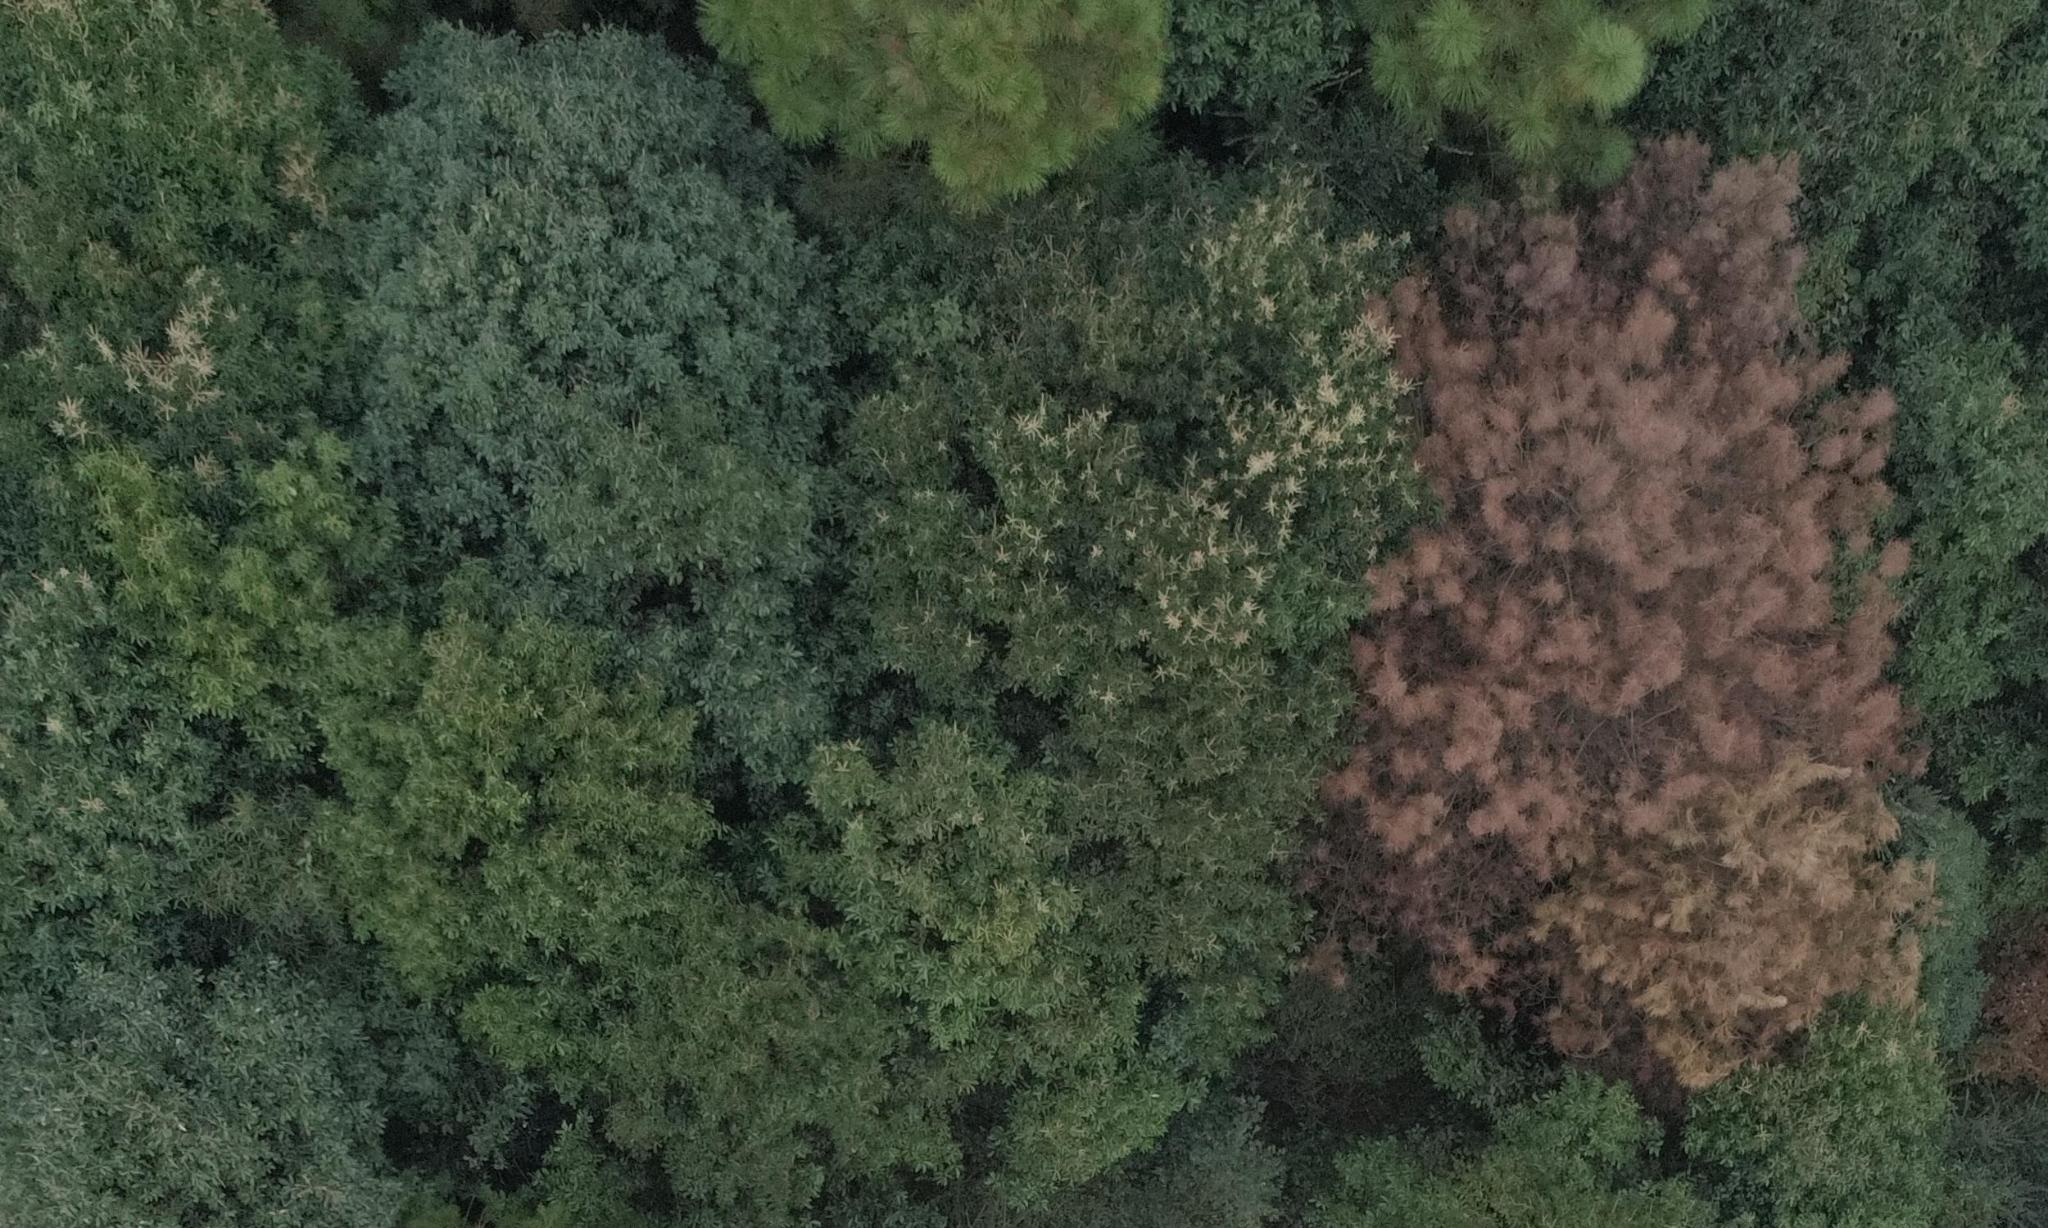heavy: (1345, 129, 1927, 1088)
